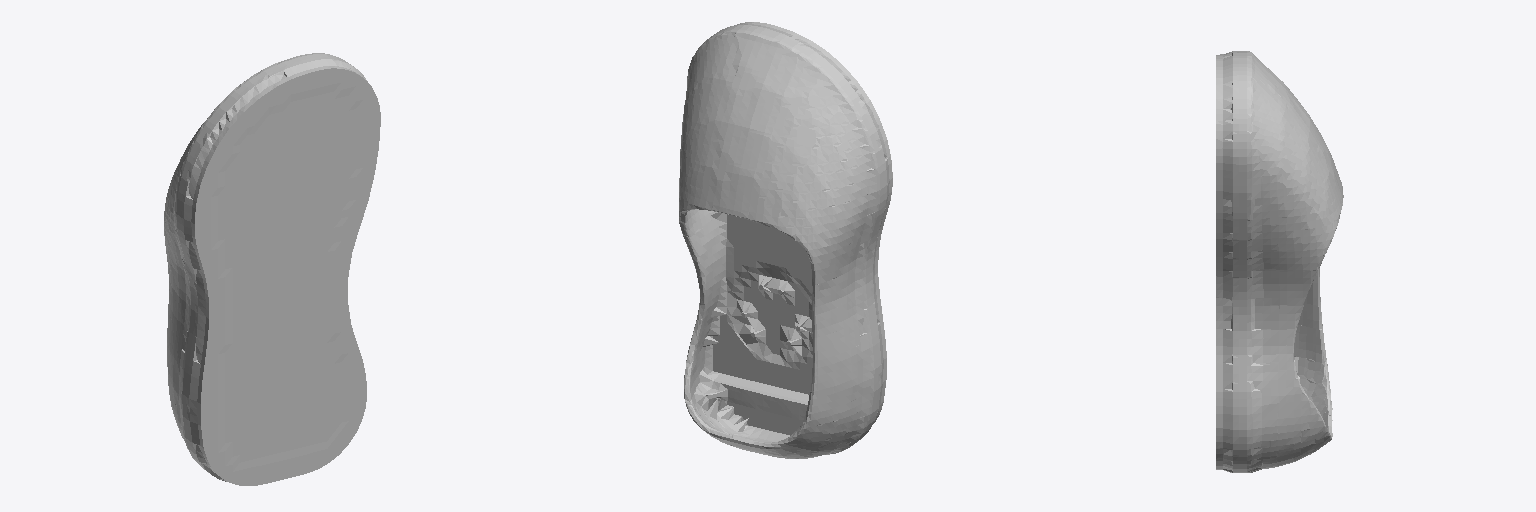
The model's file is icub_simple_collision_r_foot.obj.
3 views of the same model, side by side, from view 1: azimuth 30°, elevation 25°; view 2: azimuth 150°, elevation 25°; view 3: azimuth 270°, elevation 25° (orthographic).
Parts seen in each view (by area): view 1: Sim_Sea_2-5_R_Sole_Prt-Binary_Sim_Sea_2-5_R_Sole_Prt-Binary; view 2: Sim_Sea_2-5_R_Sole_Prt-Binary_Sim_Sea_2-5_R_Sole_Prt-Binary; view 3: Sim_Sea_2-5_R_Sole_Prt-Binary_Sim_Sea_2-5_R_Sole_Prt-Binary.
Part boxes in pixels (x1,y1,x2,y2): Sim_Sea_2-5_R_Sole_Prt-Binary_Sim_Sea_2-5_R_Sole_Prt-Binary: (164,53,380,485); Sim_Sea_2-5_R_Sole_Prt-Binary_Sim_Sea_2-5_R_Sole_Prt-Binary: (679,22,892,458); Sim_Sea_2-5_R_Sole_Prt-Binary_Sim_Sea_2-5_R_Sole_Prt-Binary: (1216,51,1343,472).
Size of the model in its own units: 0.0979 by 0.1989 by 0.0561.